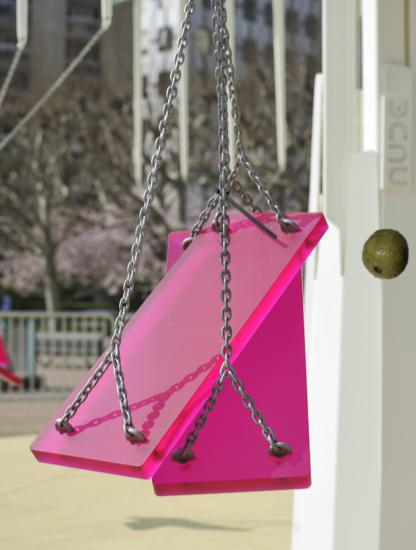Guava: (360, 228, 412, 280)
